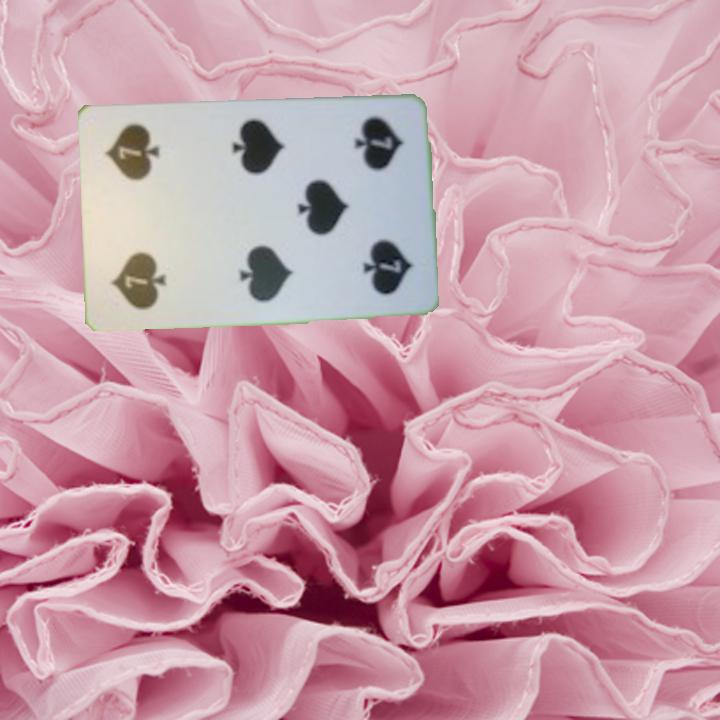s_7.png: (330, 110, 419, 213), (97, 212, 186, 315)
